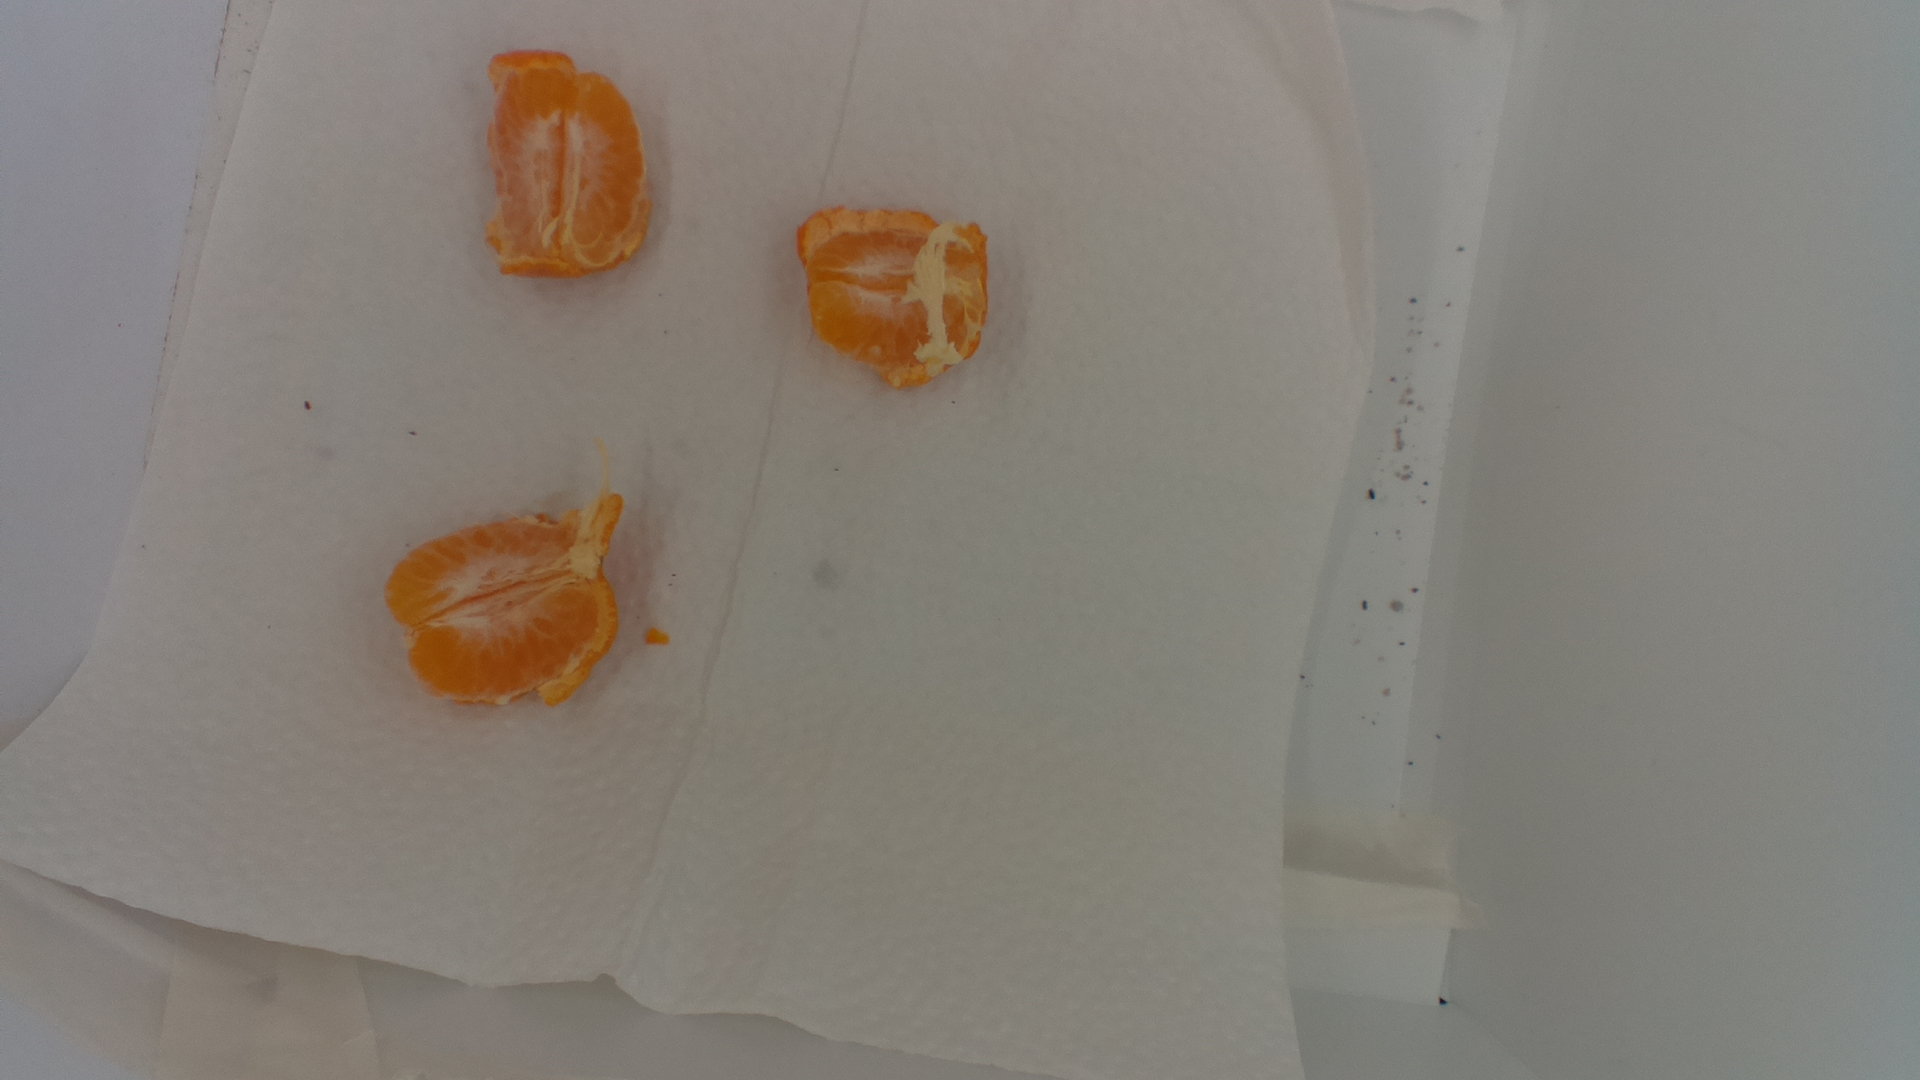fruit: (384, 493, 637, 719), (471, 46, 665, 284), (799, 202, 1000, 390)
